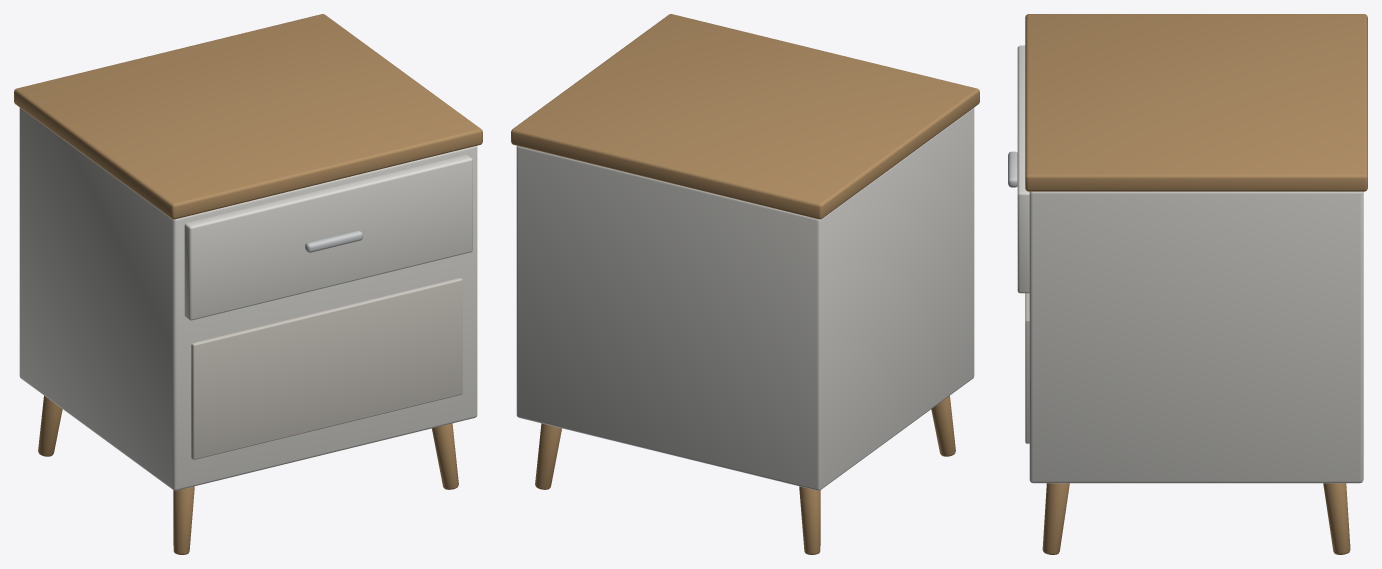
The model's file is mesilla.glb.
3 views of the same model, side by side, from view 1: azimuth 30°, elevation 25°; view 2: azimuth 150°, elevation 25°; view 3: azimuth 270°, elevation 25° (orthographic). The views are drawn at different scales.
Visible parts, largest first — view 1: Cuerpo.010, Tablero.004, Hueco, Cajón, Pata.017, Pata.019, Pata.018, Tirador.011; view 2: Cuerpo.010, Tablero.004, Pata.018, Pata.020, Pata.017; view 3: Cuerpo.010, Tablero.004, Cajón, Pata.020, Pata.019, Hueco.
Part boxes in pixels (x1,y1,x2,y2): Cuerpo.010: [19, 107, 477, 490]; Tablero.004: [14, 14, 482, 219]; Hueco: [191, 278, 462, 459]; Cajón: [184, 155, 472, 320]; Pata.017: [173, 486, 194, 554]; Pata.019: [432, 423, 458, 489]; Pata.018: [38, 395, 62, 456]; Tirador.011: [305, 230, 362, 252]; Cuerpo.010: [516, 107, 974, 490]; Tablero.004: [511, 14, 979, 219]; Pata.018: [799, 486, 820, 554]; Pata.020: [535, 423, 561, 489]; Pata.017: [931, 395, 955, 456]; Cuerpo.010: [1029, 191, 1363, 483]; Tablero.004: [1025, 14, 1367, 191]; Cajón: [1017, 45, 1029, 293]; Pata.020: [1323, 483, 1350, 554]; Pata.019: [1042, 483, 1069, 554]; Hueco: [1025, 293, 1029, 443].
Size of the model in its own units: 0.45 by 0.501 by 0.42.
